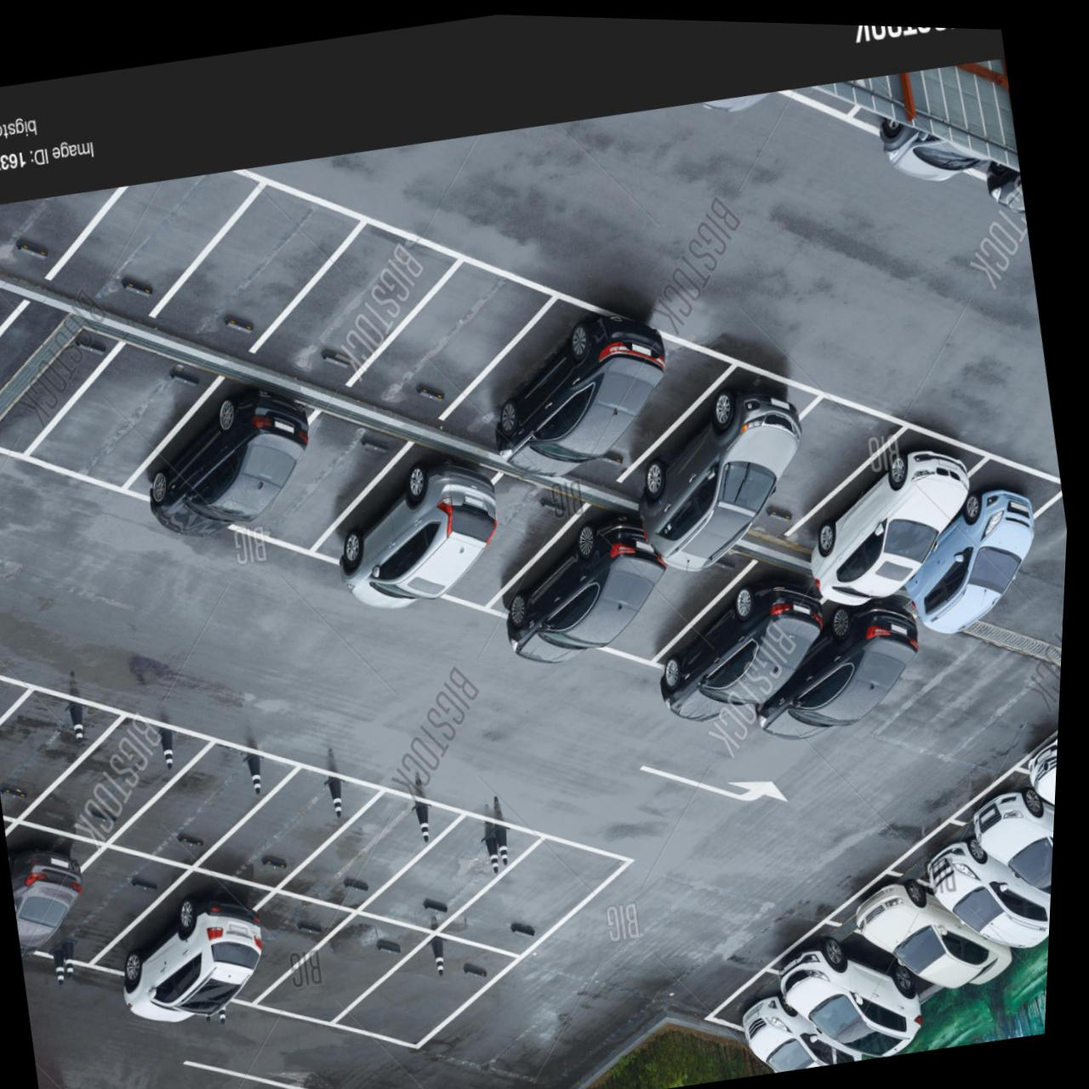cars: (444, 296, 643, 470), (131, 367, 329, 541), (629, 362, 817, 534), (654, 564, 850, 727), (890, 452, 1067, 625), (745, 900, 937, 1059), (744, 587, 935, 746), (881, 797, 1053, 969), (483, 503, 664, 665), (303, 448, 505, 591), (796, 434, 982, 585), (813, 856, 998, 1005), (37, 695, 211, 851), (136, 725, 293, 878), (14, 845, 182, 987), (295, 777, 456, 919), (697, 948, 862, 1086), (222, 756, 381, 895), (91, 878, 254, 1004), (380, 802, 525, 934), (0, 667, 121, 821), (192, 913, 334, 1030), (958, 743, 1057, 902), (1, 828, 108, 958), (1013, 723, 1058, 834)
empty: (254, 212, 453, 387), (346, 254, 544, 428), (49, 157, 266, 312), (149, 189, 340, 363), (541, 328, 728, 494), (240, 403, 407, 566), (738, 385, 901, 548), (425, 470, 585, 626), (30, 358, 212, 490), (461, 842, 617, 972), (576, 545, 733, 674), (350, 949, 501, 1070), (248, 926, 413, 1036)
